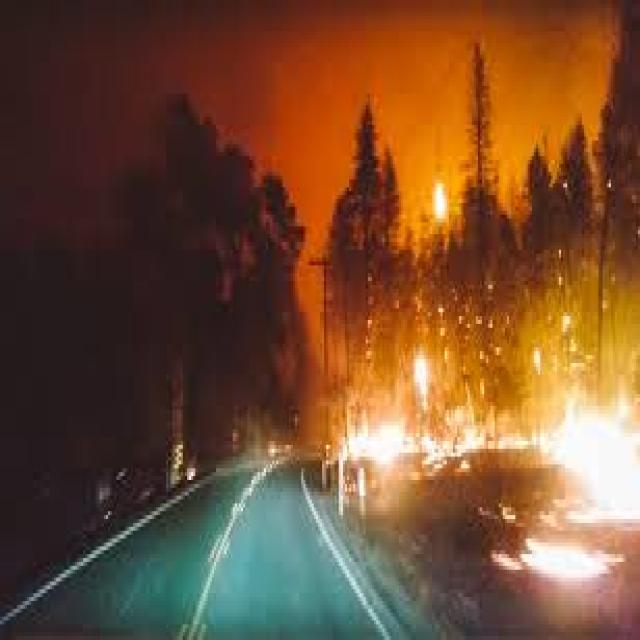Fire: (298, 0, 640, 617), (116, 5, 300, 457)
